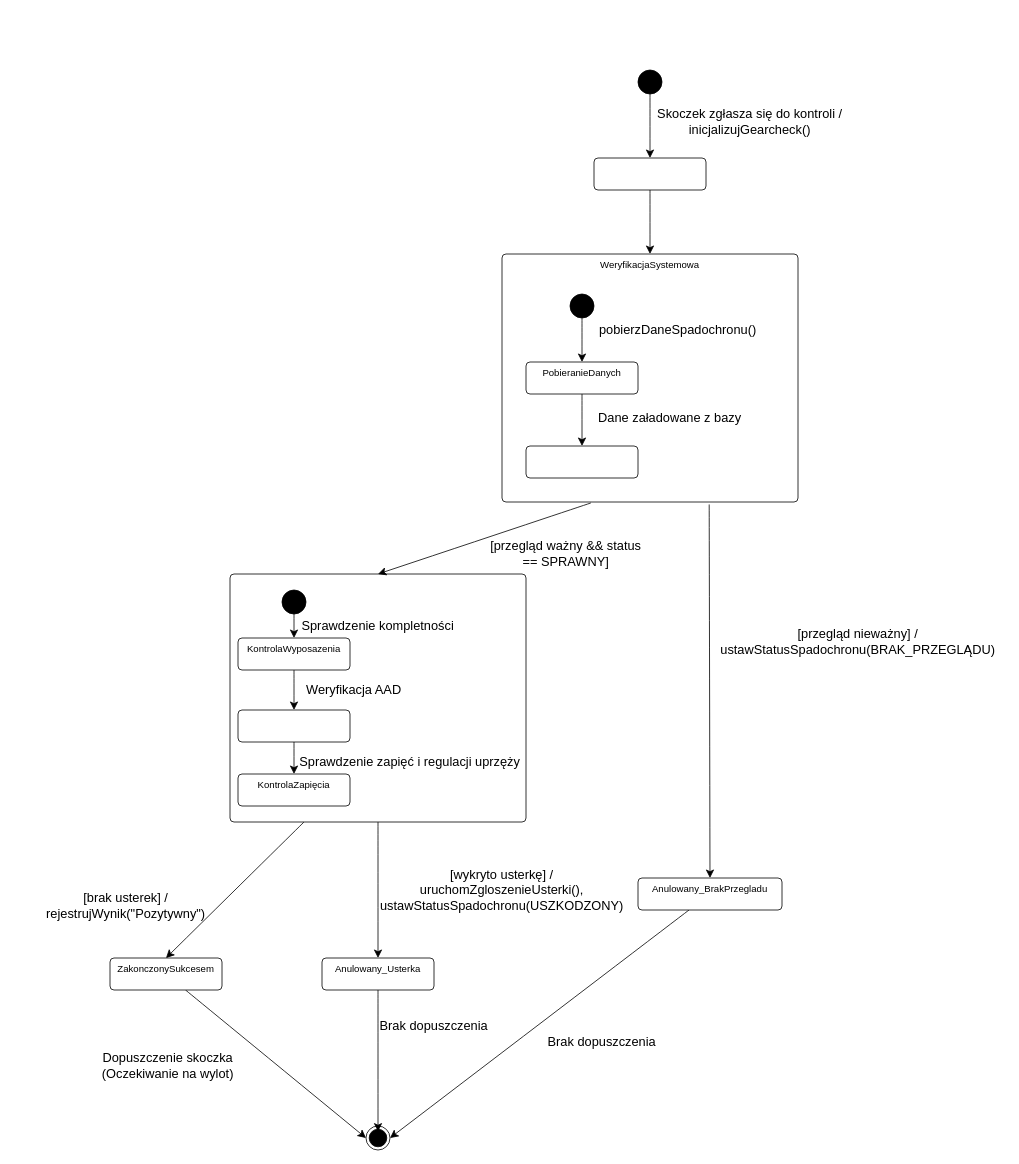
This 1019x1164 diagram has some shape labels left out. The box of each missing label's shape, as (x1, y1, x2, y2) in pixels:
Kontrola fizyczna: (229, 573, 526, 822)
KontrolaAutomatu: (237, 709, 350, 742)
Sprawdzanie ważności: (525, 445, 638, 478)
Utworzony: (593, 157, 706, 190)
